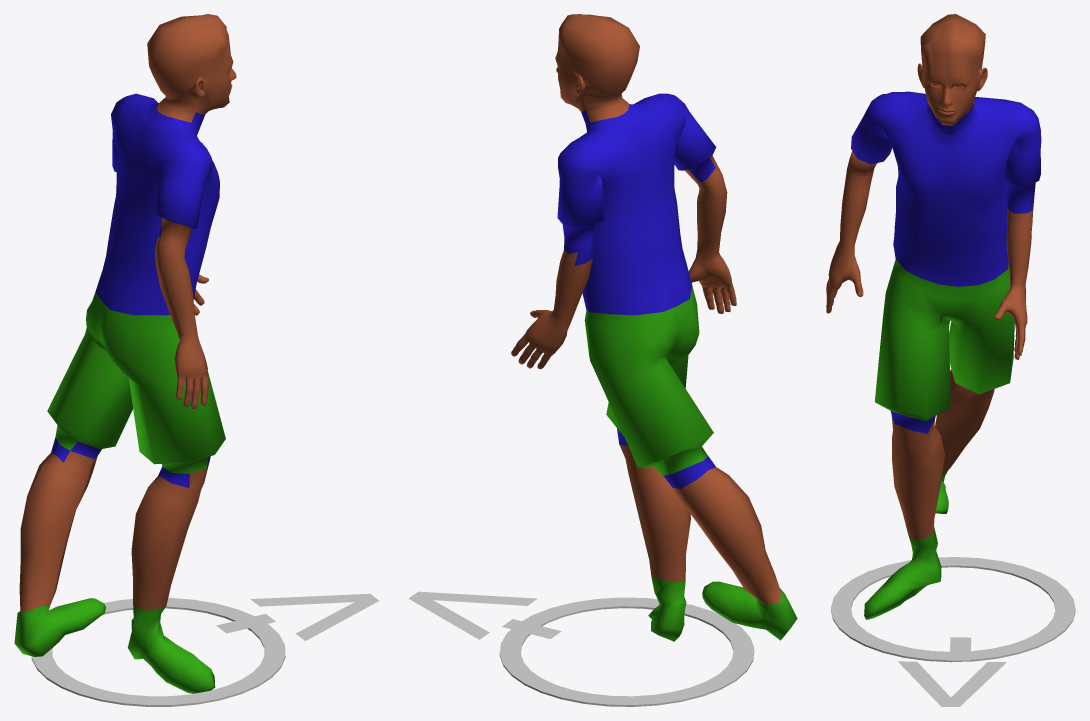
File: playerAI_000021.obj
3 renders of one model, left to right at view 1: azimuth 30°, elevation 25°; view 2: azimuth 150°, elevation 25°; view 3: azimuth 270°, elevation 25°, orthographic. The views are drawn at different scales.
Visible parts, largest first — view 1: soccerplayer.003_mesh.002, Circle.001, Text_Mesh; view 2: soccerplayer.003_mesh.002, Circle.001, Text_Mesh; view 3: soccerplayer.003_mesh.002, Circle.001, Text_Mesh.
Boxes of the visible parts, left/top/right/bottom form: soccerplayer.003_mesh.002: left=14, top=14, right=236, bottom=693; Circle.001: left=31, top=597, right=285, bottom=706; Text_Mesh: left=216, top=593, right=379, bottom=640; soccerplayer.003_mesh.002: left=511, top=14, right=797, bottom=641; Circle.001: left=499, top=597, right=754, bottom=706; Text_Mesh: left=408, top=591, right=561, bottom=639; soccerplayer.003_mesh.002: left=826, top=14, right=1041, bottom=619; Circle.001: left=831, top=557, right=1075, bottom=662; Text_Mesh: left=898, top=637, right=1006, bottom=706.
Size of the model in its own units: 1.81 by 3 by 1.11.
